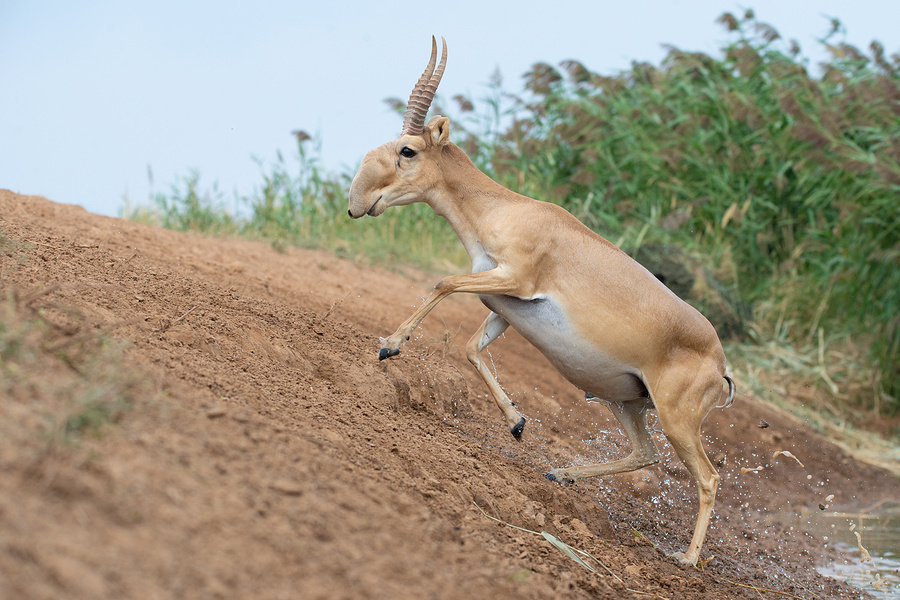saiga: (347, 33, 739, 571)
